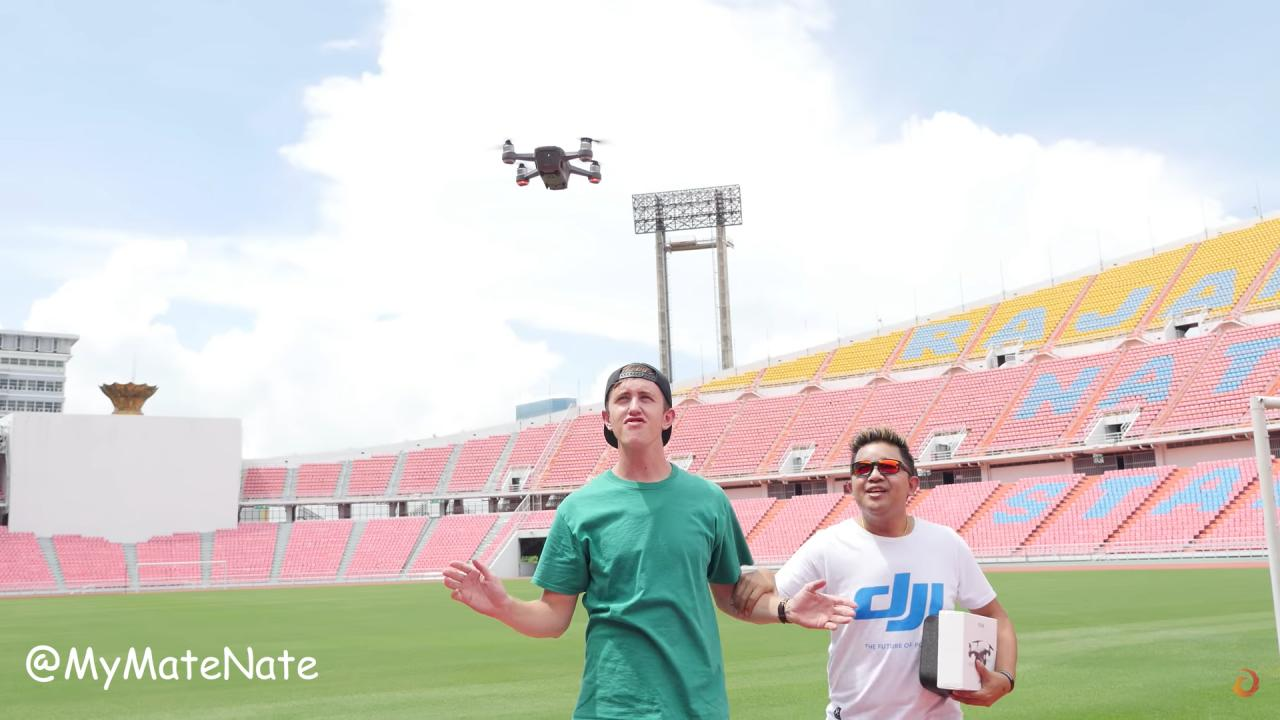Drone: (485, 127, 621, 202)
